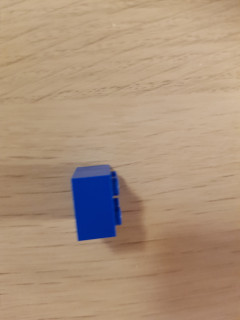2x2 blue: (67, 162, 126, 246)
